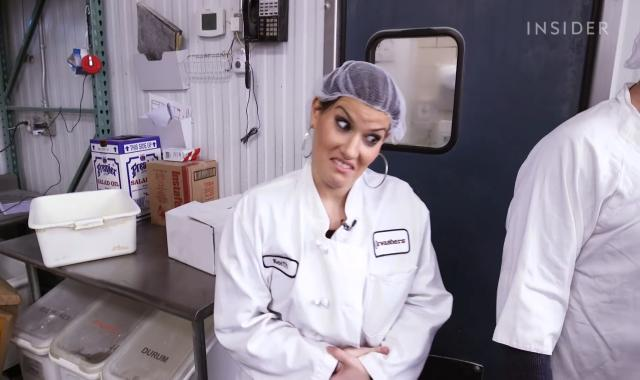hairnet: (313, 60, 409, 139)
